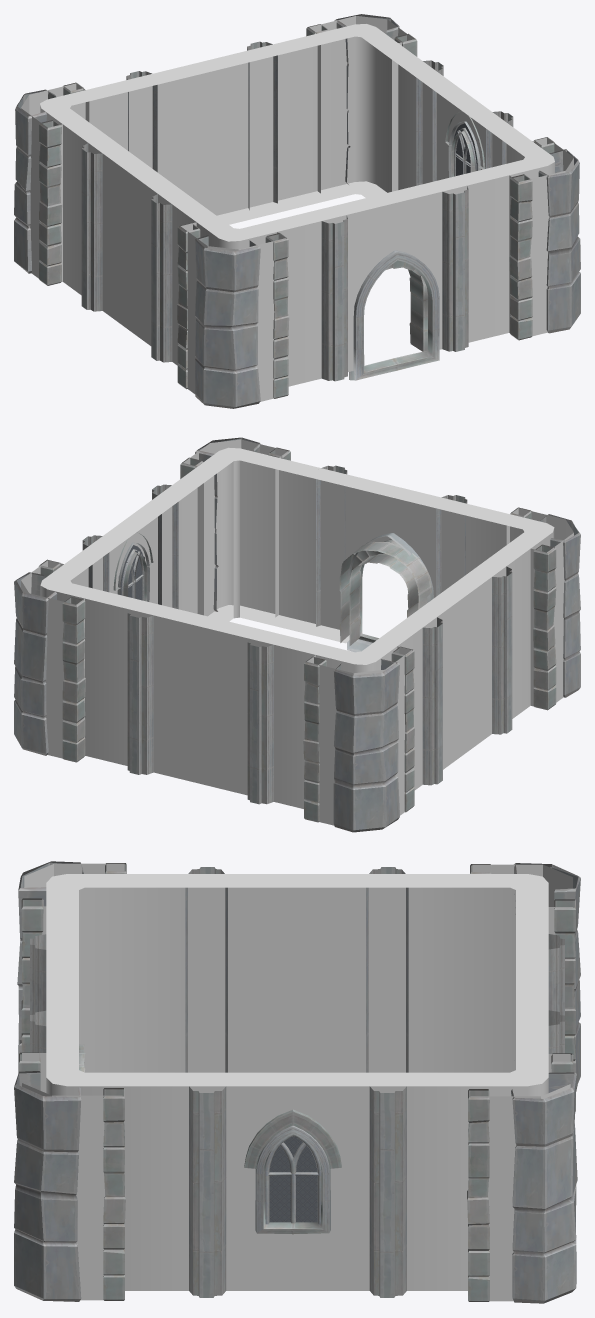
Rendered from SM_TowerF_Mid1Door_Window.fbx.
3 renders of one model, top to bottom at view 1: azimuth 30°, elevation 25°; view 2: azimuth 150°, elevation 25°; view 3: azimuth 270°, elevation 25°, orthographic. The views are drawn at different scales.
Parts seen in each view (by area): view 1: SM_TowerF_Mid1Door_Window_LOD0; view 2: SM_TowerF_Mid1Door_Window_LOD0; view 3: SM_TowerF_Mid1Door_Window_LOD0.
Boxes of the visible parts, x1,y1,x2,y2 form: SM_TowerF_Mid1Door_Window_LOD0: (14, 14, 580, 408); SM_TowerF_Mid1Door_Window_LOD0: (14, 437, 580, 832); SM_TowerF_Mid1Door_Window_LOD0: (14, 861, 580, 1303).
Size of what is drawn, in the model's own units: 11.29 by 4.9 by 11.29.
